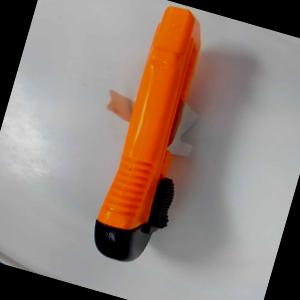estilete: (85, 0, 226, 271)
